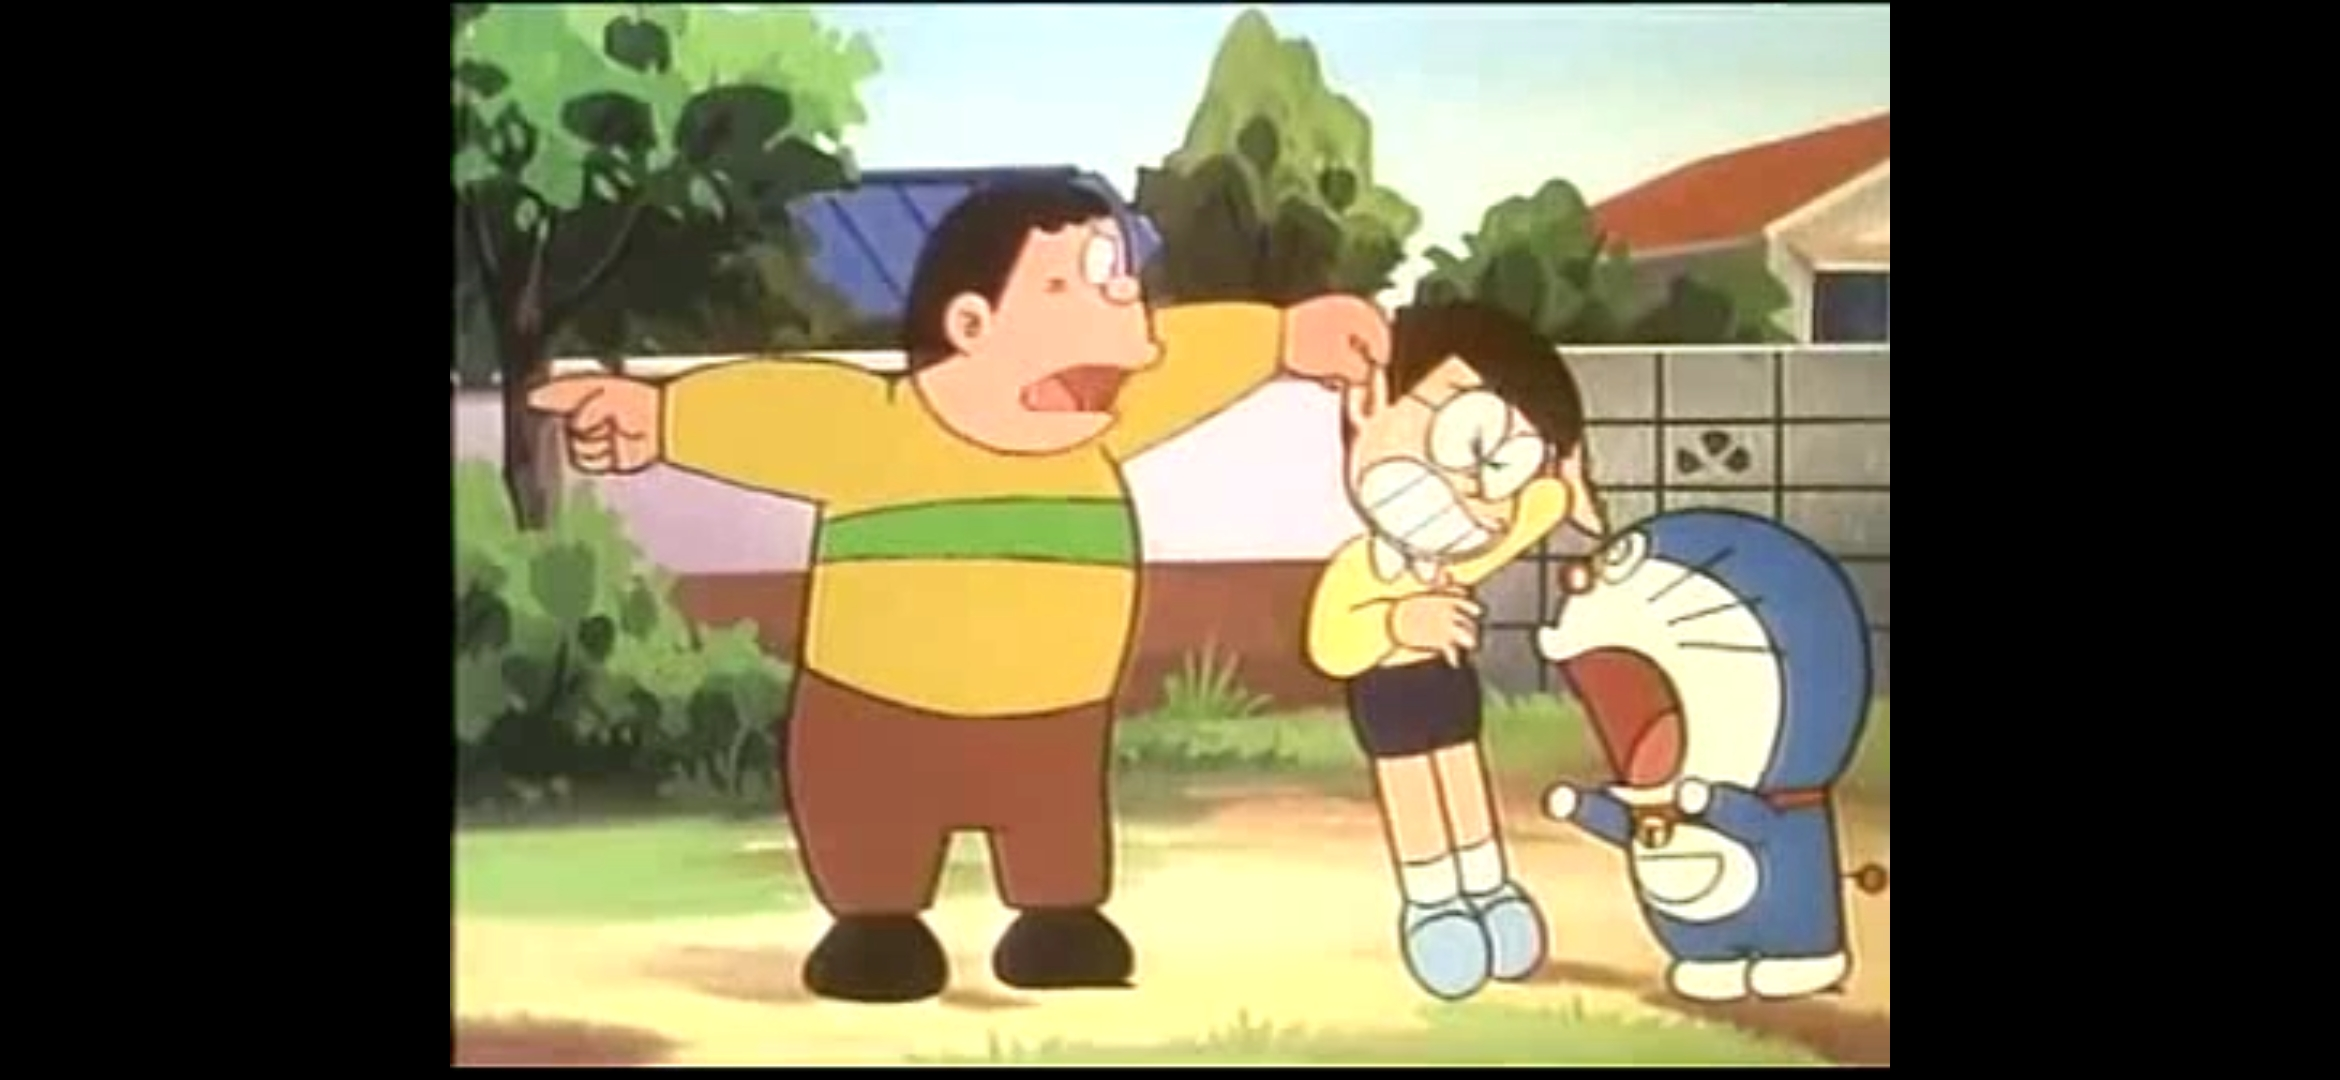Doraemon: (1533, 506, 1871, 844)
Nobi: (1340, 301, 1579, 558)
Takeshi: (904, 180, 1160, 450)
